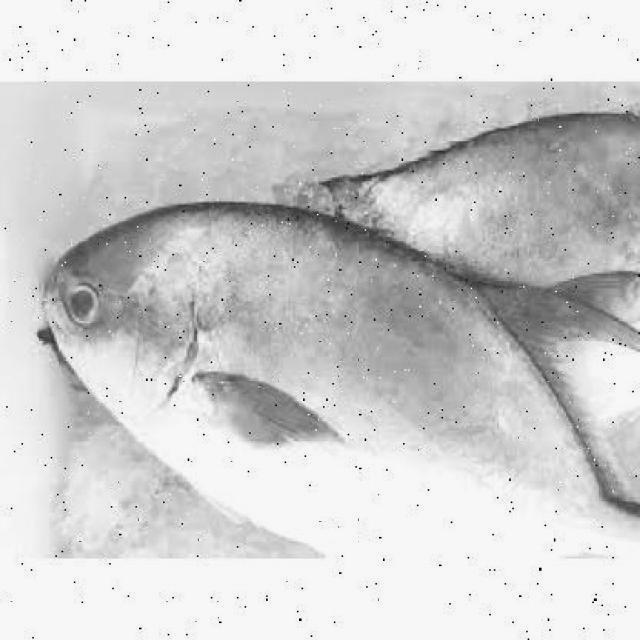ikan-pacu: (43, 189, 640, 554)
